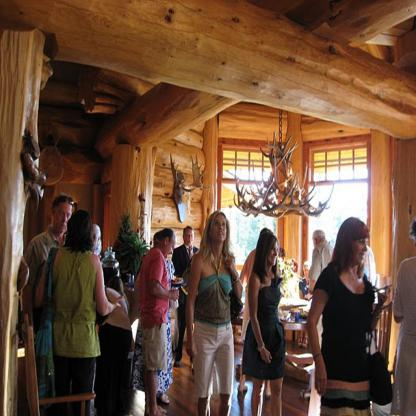face: (351, 233, 369, 265), (55, 203, 73, 231), (212, 215, 228, 242), (267, 242, 279, 266), (166, 237, 178, 258), (87, 231, 98, 253), (185, 228, 195, 246), (305, 267, 311, 278)
